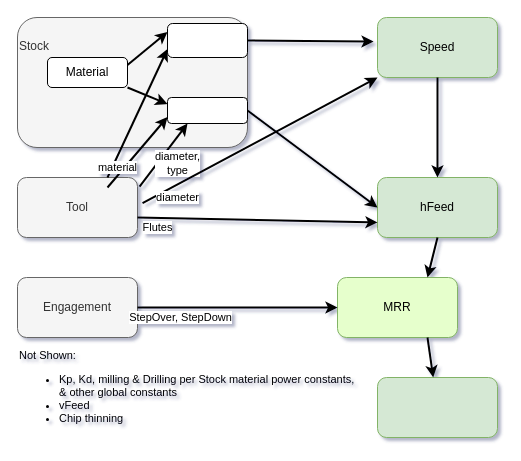
Image size: 521x461. Some labels were removed from this diagram. Each missing label, with the box of its shape:
Chipload: (166, 96, 248, 124)
Power: (376, 376, 498, 438)
Surface speed: (166, 22, 248, 58)
